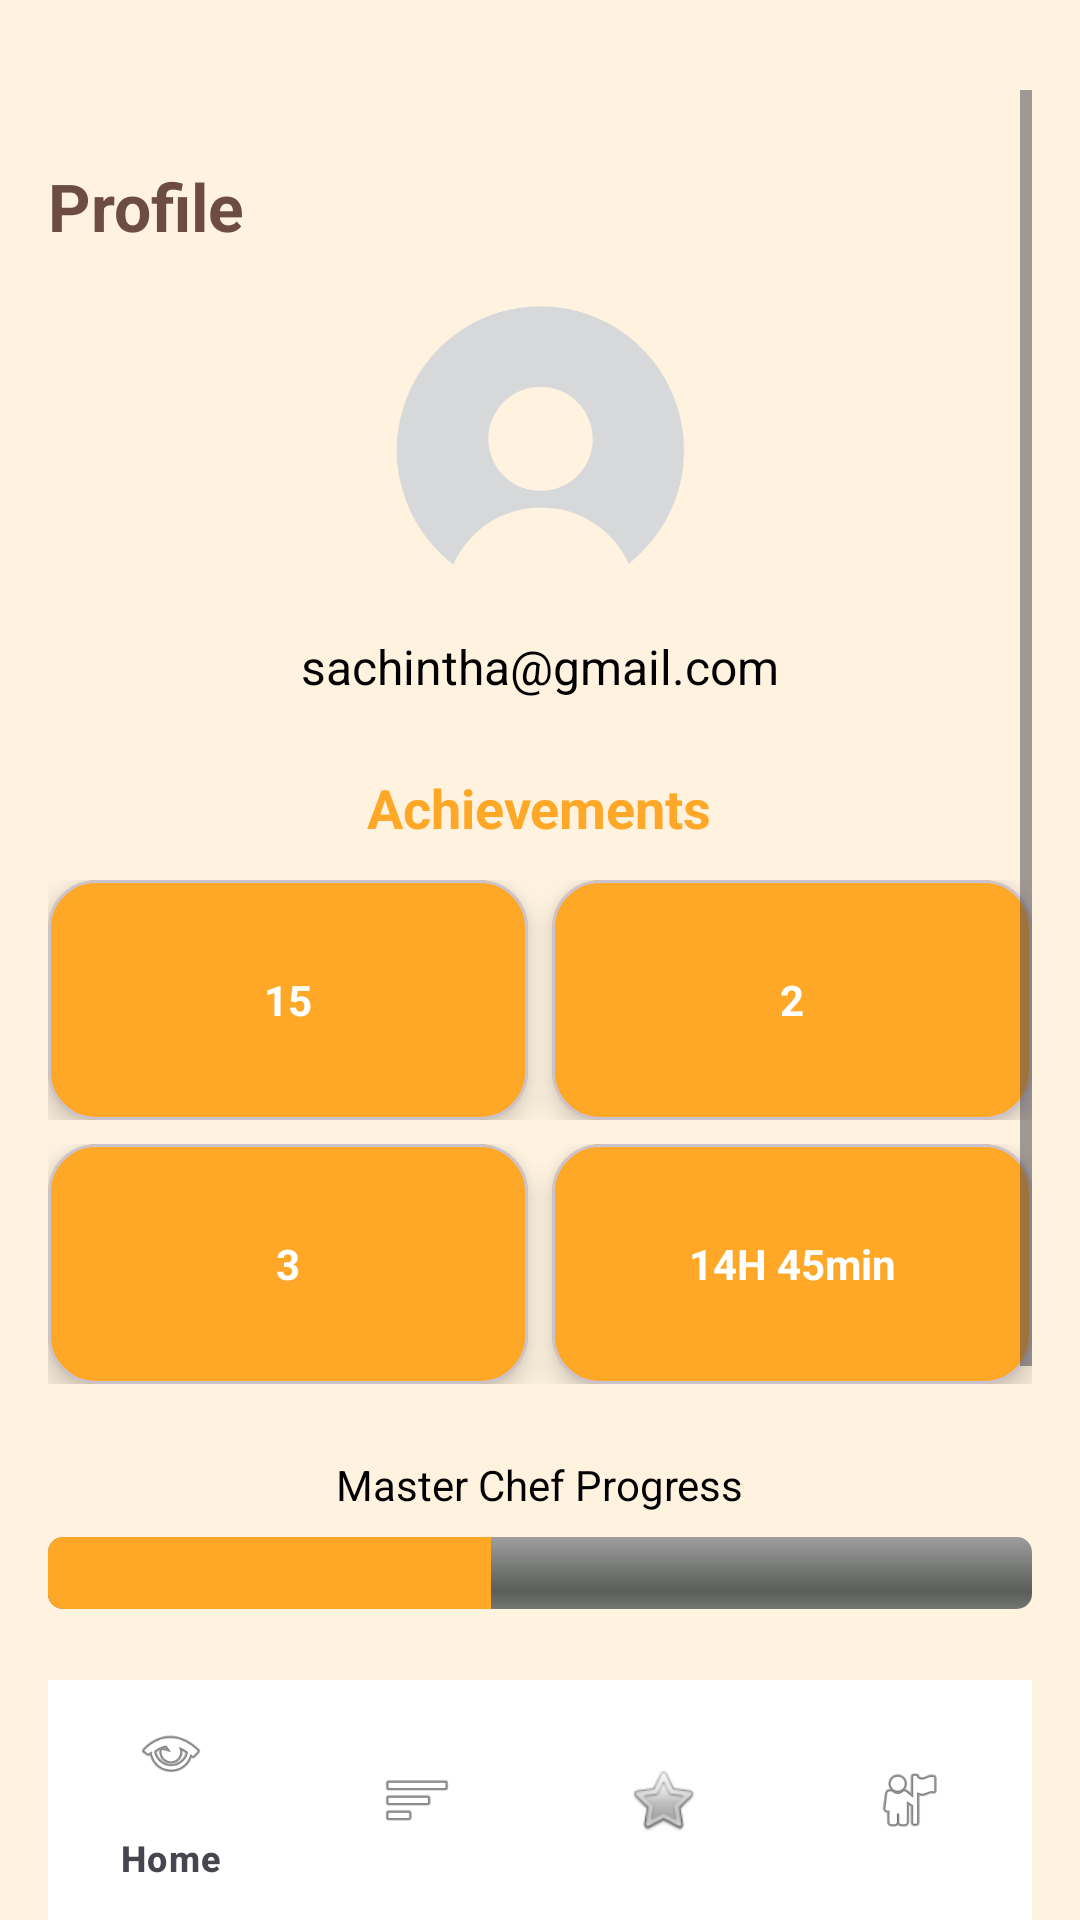

Locate icon controls on the screen. Image size 1080 × 1920, boxes as (x1, y1, x2, y2).
propic: (397, 306, 684, 564)
